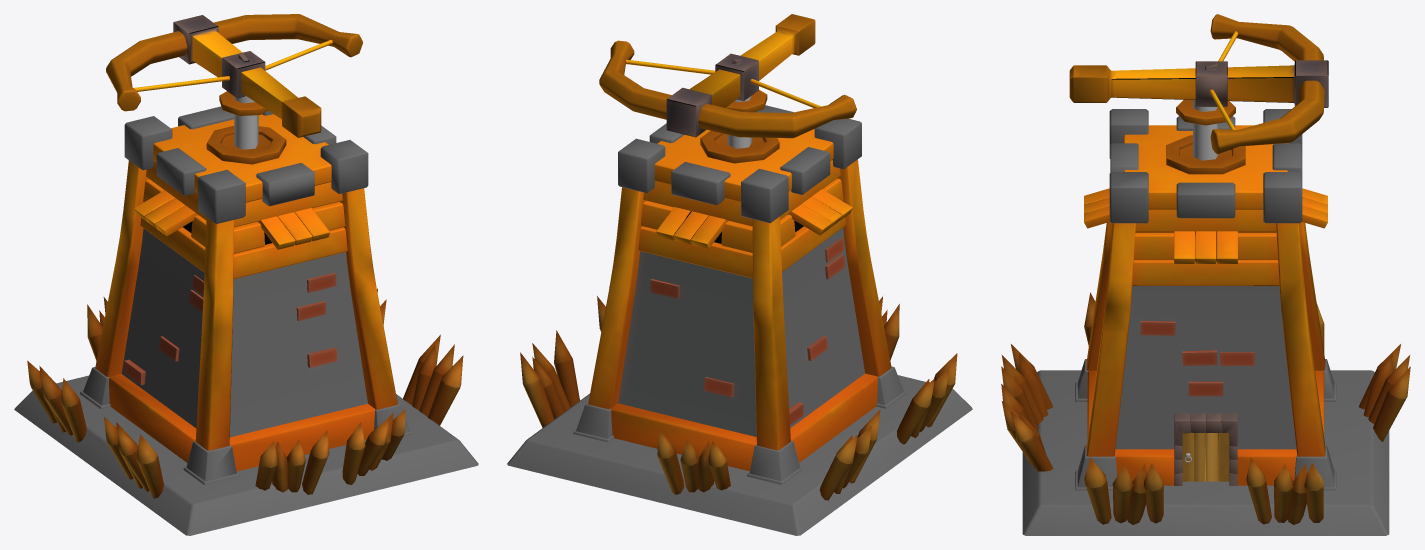
Rendered from Balista_Tartak_Kamieniolom.fbx.
3 views of the same model, side by side, from view 1: azimuth 30°, elevation 25°; view 2: azimuth 150°, elevation 25°; view 3: azimuth 270°, elevation 25° (orthographic). The views are drawn at different scales.
Parts seen in each view (by area): view 1: Cylinder.020_Baked, Cylinder.003_Baked; view 2: Cylinder.020_Baked, Cylinder.003_Baked; view 3: Cylinder.020_Baked, Cylinder.003_Baked.
Part boxes in pixels (box(x1,y1,x2,y2)): Cylinder.020_Baked: box(14, 106, 478, 535); Cylinder.003_Baked: box(106, 14, 362, 164); Cylinder.020_Baked: box(507, 105, 972, 535); Cylinder.003_Baked: box(599, 14, 856, 163); Cylinder.020_Baked: box(1001, 109, 1410, 535); Cylinder.003_Baked: box(1069, 14, 1328, 174).
Size of the model in its own units: 200 by 216 by 200.
Materials: 1 (1 with a texture image).
